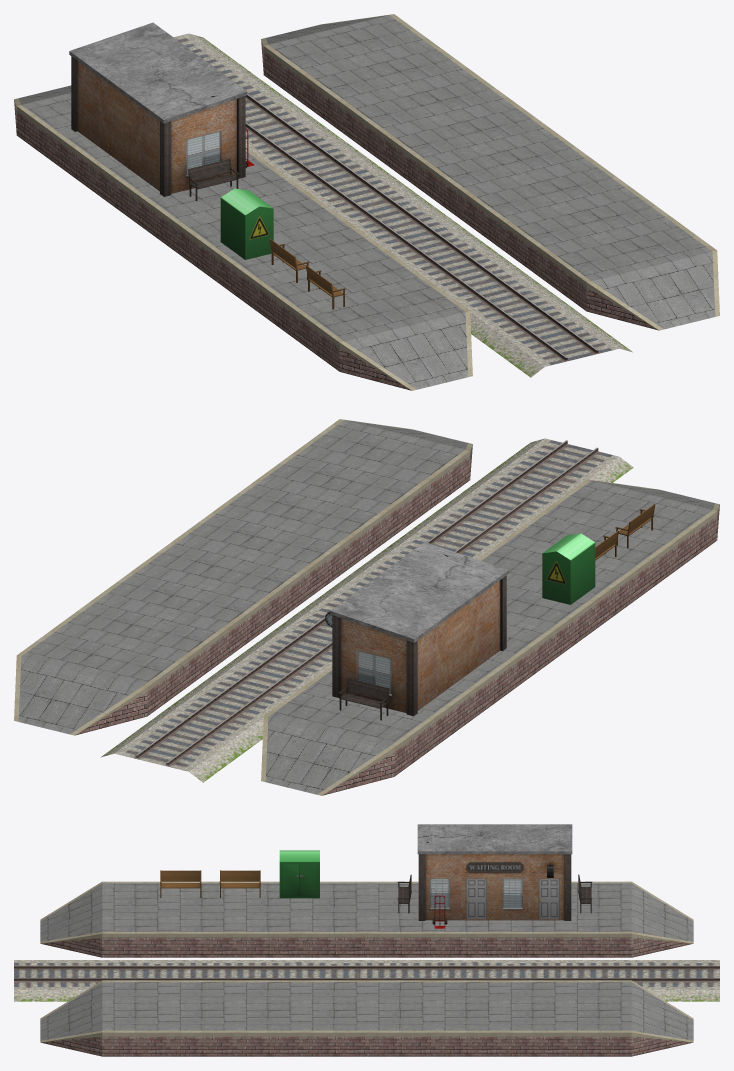
Rendered from StationHalt3.fbx.
3 views of the same model, one above another, from view 1: azimuth 30°, elevation 25°; view 2: azimuth 150°, elevation 25°; view 3: azimuth 270°, elevation 25° (orthographic). The views are drawn at different scales.
Visible parts, largest first — view 1: U3DMesh; view 2: U3DMesh; view 3: U3DMesh.
Boxes of the visible parts, left/top/right/bottom form: U3DMesh: left=14, top=14, right=719, bottom=390; U3DMesh: left=14, top=419, right=719, bottom=795; U3DMesh: left=14, top=824, right=719, bottom=1056.
Size of the model in its own units: 16.2 by 4.72 by 32.
